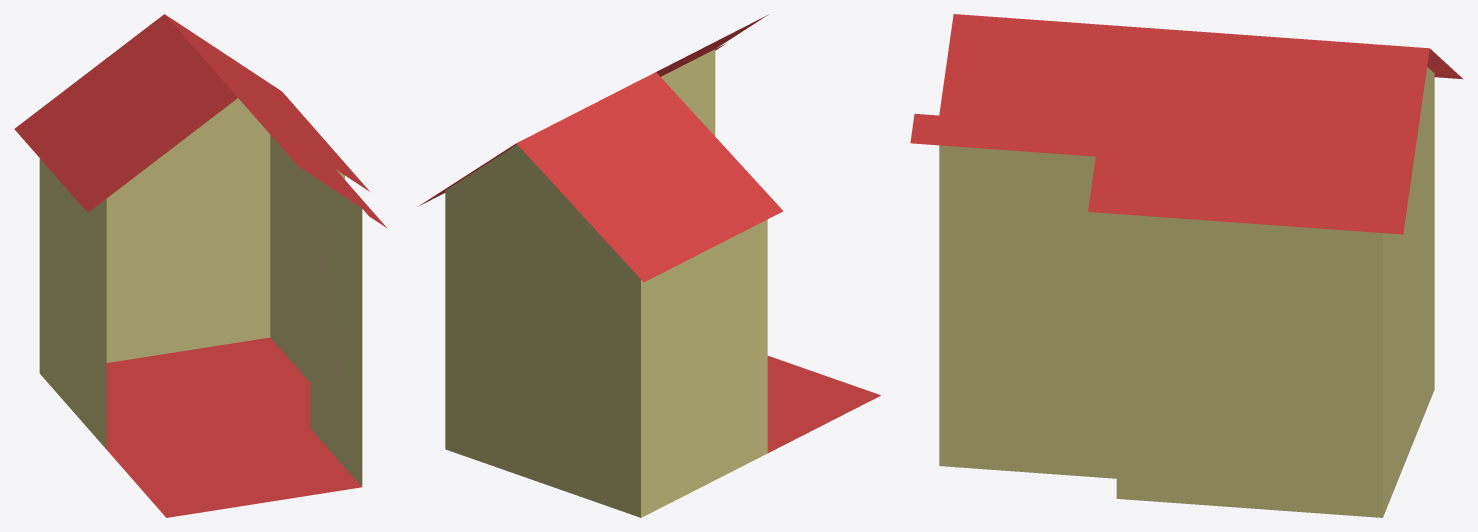
The picture shows the model from 3 angles, left to right: view 1: azimuth 30°, elevation 25°; view 2: azimuth 150°, elevation 25°; view 3: azimuth 270°, elevation 25°; orthographic projection. The views are drawn at different scales.
Size of the model in its own units: 8.2 by 11.05 by 9.17.
